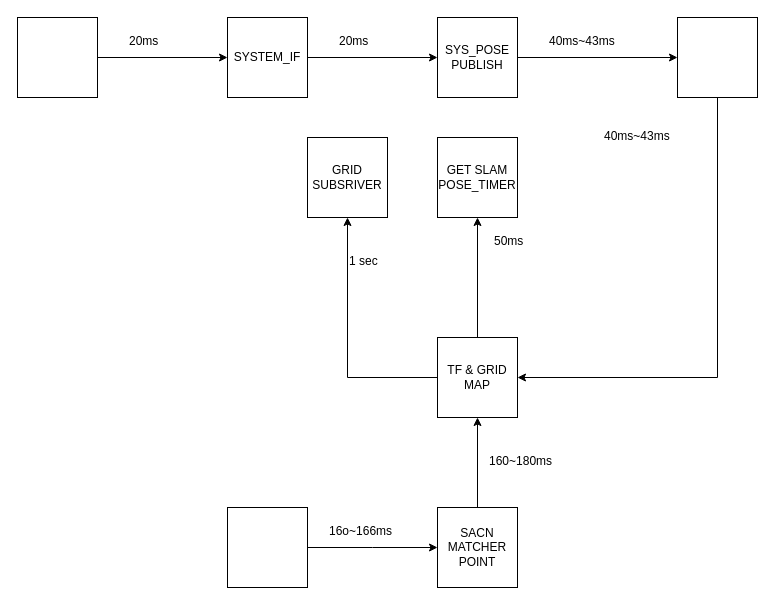
Image size: 775x605. Some labels were removed from this diagram. Here are the shapes that lost their labels. From the top down, the centre of each, then its label:
[57,57]: MCU
[717,57]: ODOM
[267,547]: LIDAR
